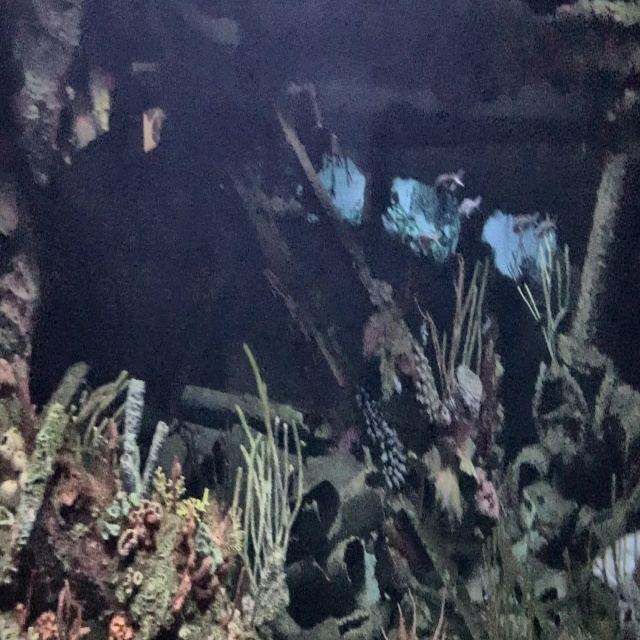fish: (432, 165, 468, 197), (412, 230, 445, 259), (532, 213, 560, 242), (457, 193, 484, 223), (510, 211, 543, 235)
